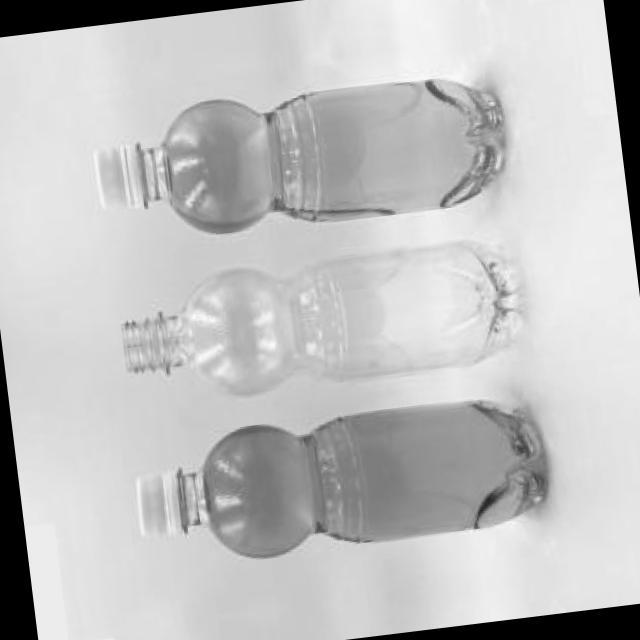good: (90, 211, 570, 430), (115, 376, 569, 587), (76, 54, 538, 259)
